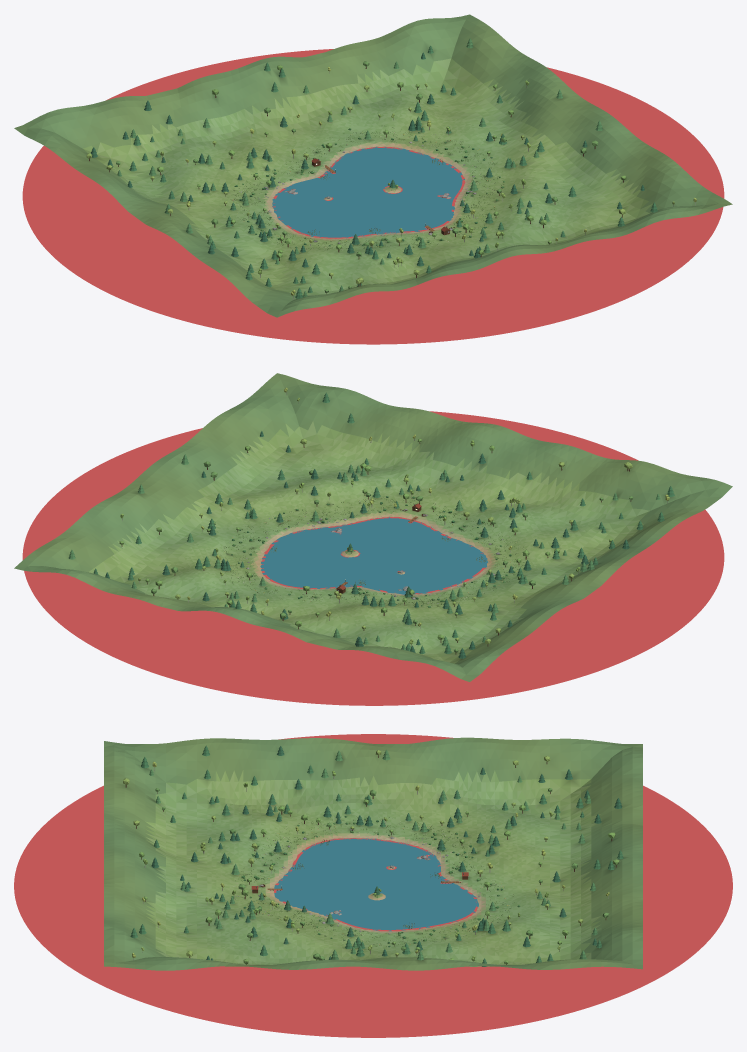
Rendered from lake_01.glb.
3 views of the same model, one above another, from view 1: azimuth 30°, elevation 25°; view 2: azimuth 150°, elevation 25°; view 3: azimuth 270°, elevation 25° (orthographic). The views are drawn at different scales.
Parts seen in each view (by area): view 1: deco_terrain, shore_col, water, deco_trees_sway; view 2: deco_terrain, shore_col, water, deco_trees_sway; view 3: deco_terrain, shore_col, water, deco_trees_sway, deco_bushes.
Boxes of the visible parts, x1,y1,x2,y2 form: deco_terrain: (14, 14, 732, 317); shore_col: (22, 49, 724, 344); water: (272, 146, 464, 238); deco_trees_sway: (86, 38, 696, 299); deco_terrain: (14, 373, 732, 681); shore_col: (22, 411, 724, 705); water: (260, 517, 487, 594); deco_trees_sway: (68, 387, 674, 658); deco_terrain: (104, 737, 642, 970); shore_col: (14, 734, 732, 1037); water: (274, 838, 478, 931); deco_trees_sway: (123, 745, 623, 966); deco_bushes: (231, 816, 520, 947).
Bounding box in the file's own units: 400 × 31.58 × 400.
